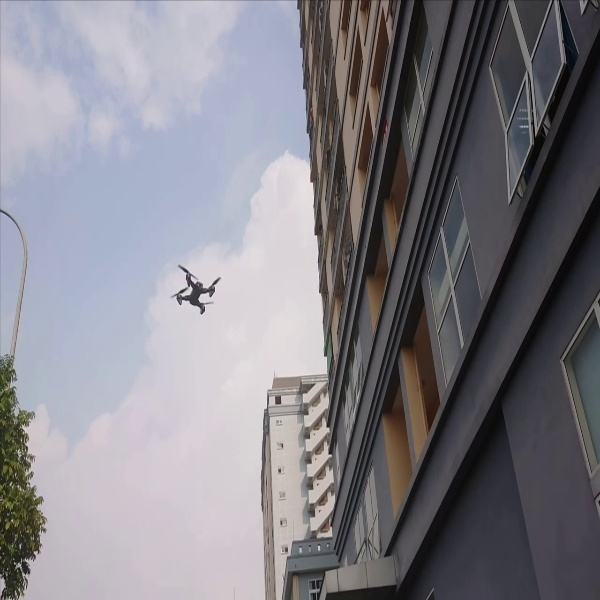drone: (168, 258, 222, 317)
